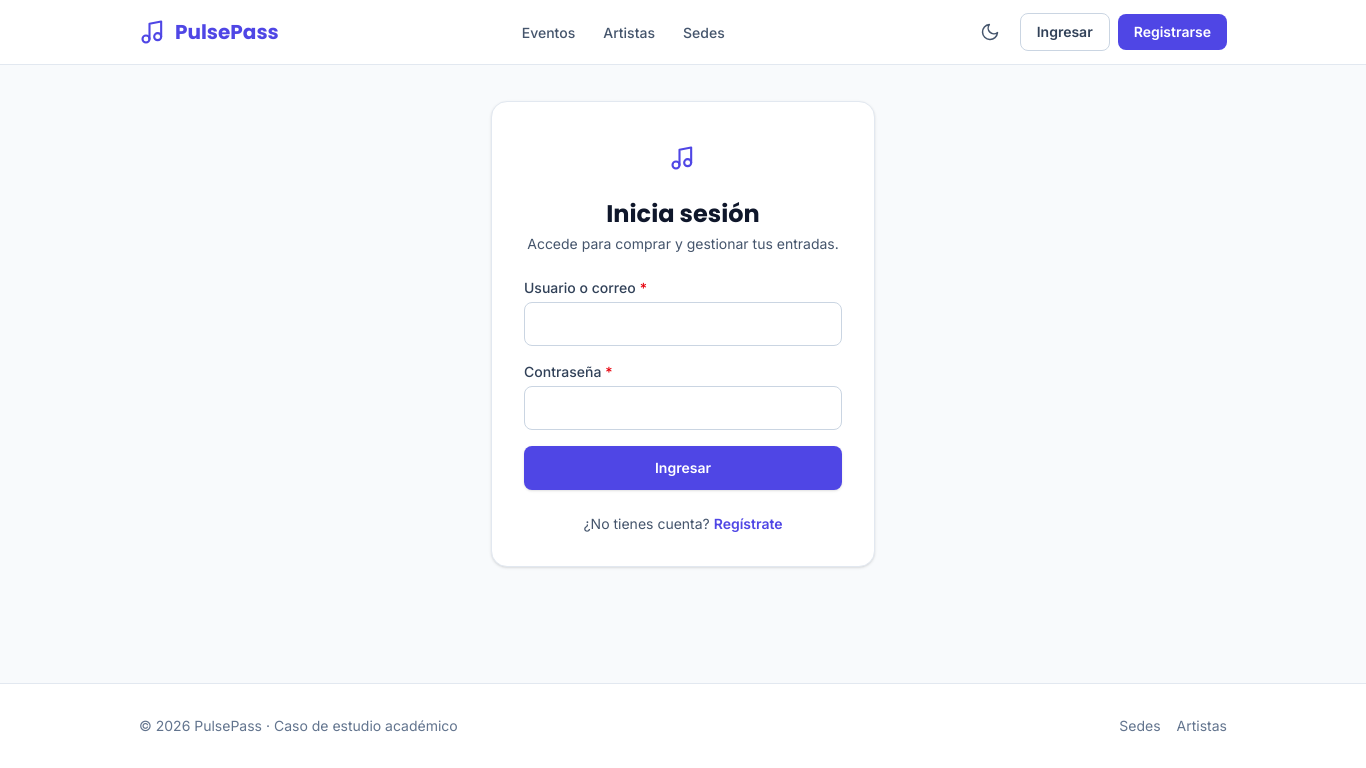
Test: Login › login 401 -> "Credenciales inválidas"
Expected: the heading "Inicia sesión" is shown, [606,197,760,230]
In the field labelled "Usuario o correo*": (683, 324) [524,302,842,346], type "andrea"
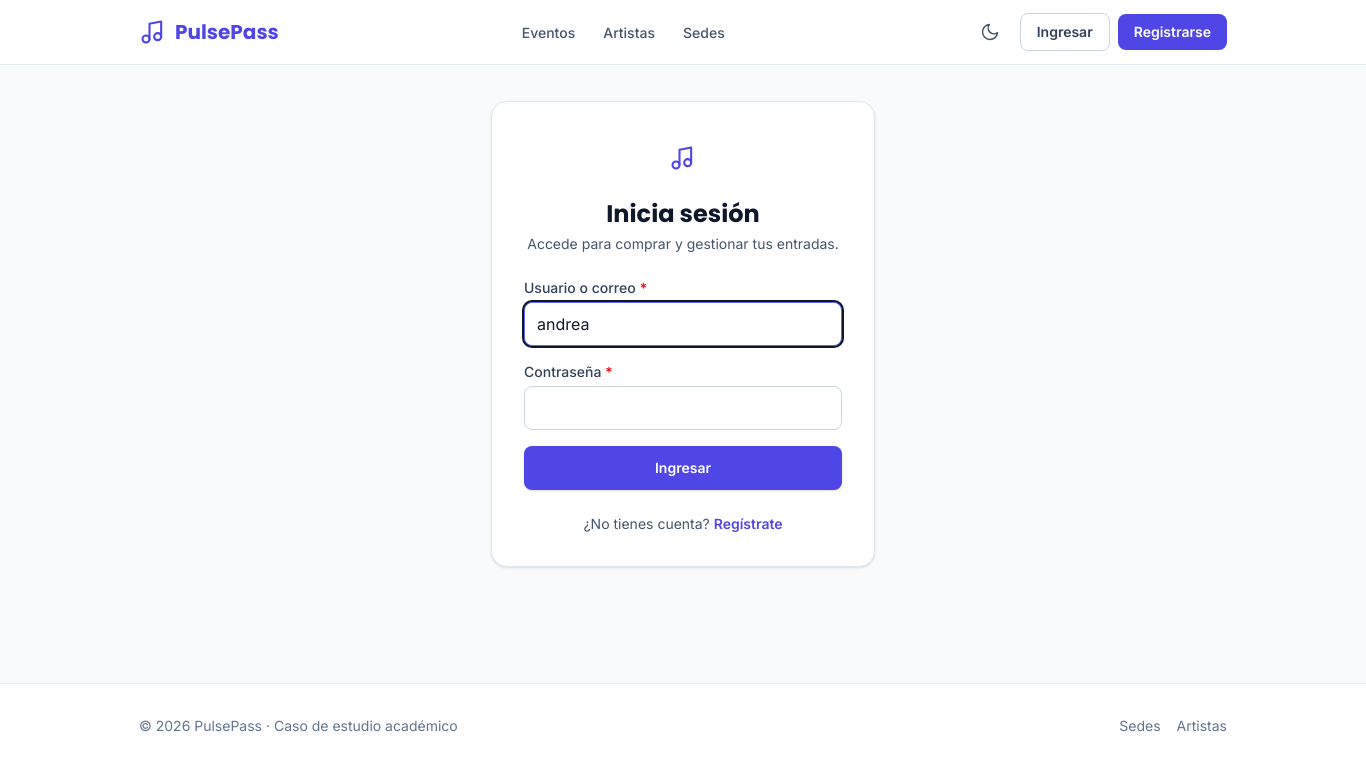
In the password field labelled "Contraseña*": (683, 408) [524,386,842,430], type "passwordSegura123"
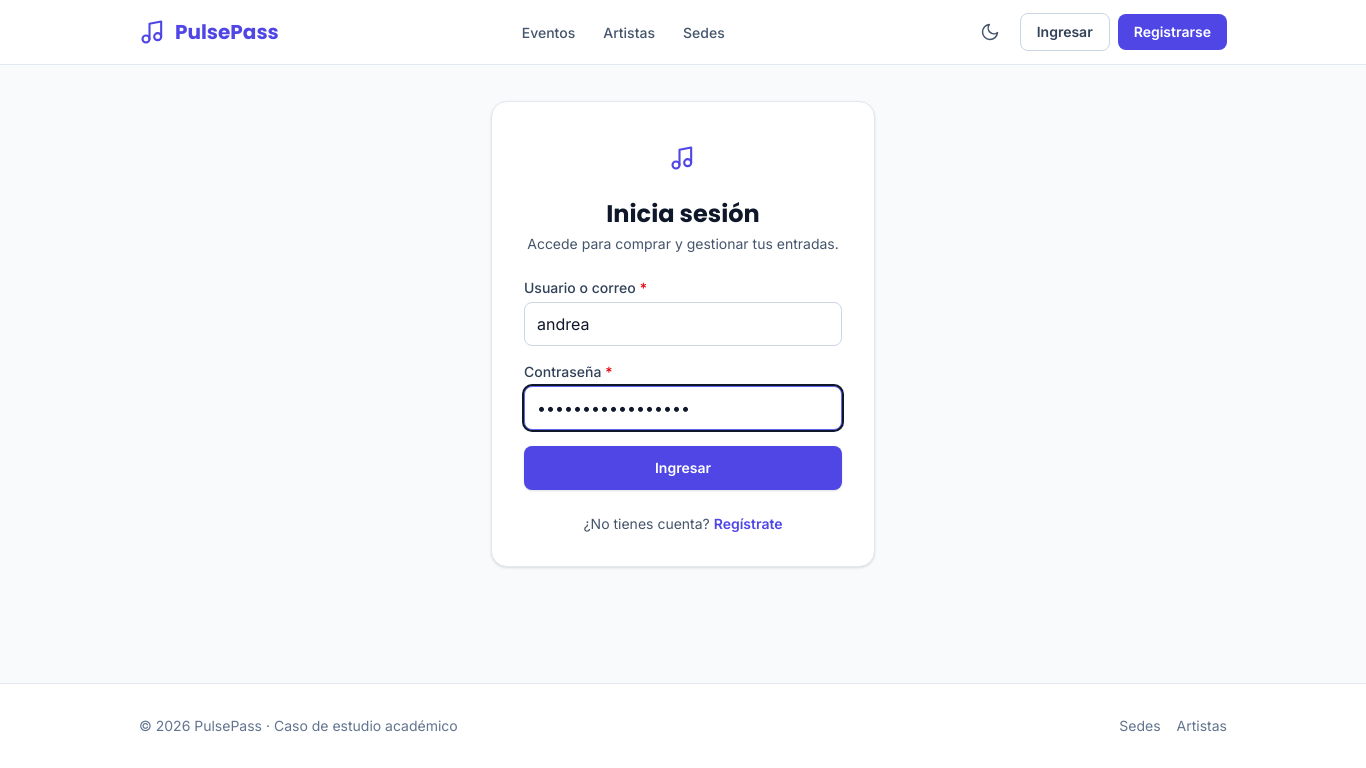
Click the button "Ingresar": (683, 468) [524,446,842,490]
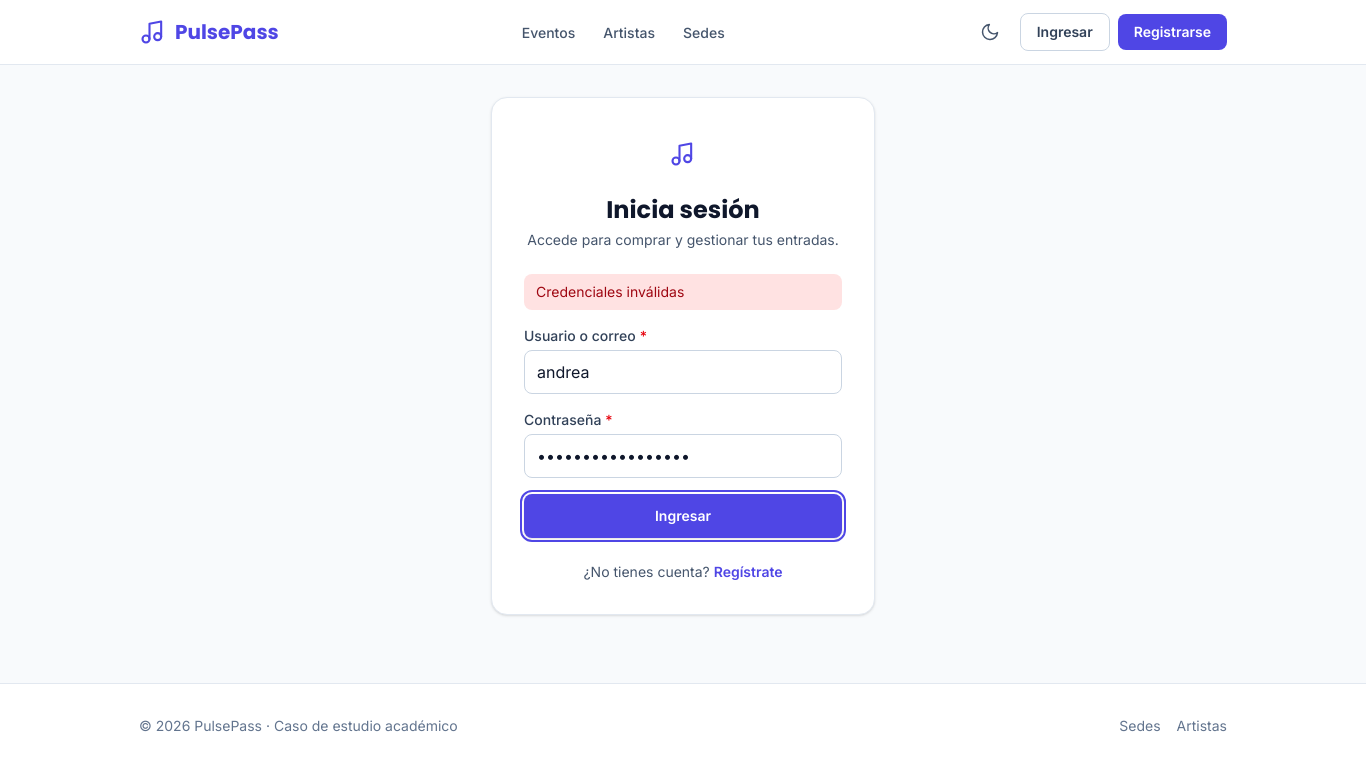
Expected: the message reads "Credenciales inválidas", [536,283,684,300]
